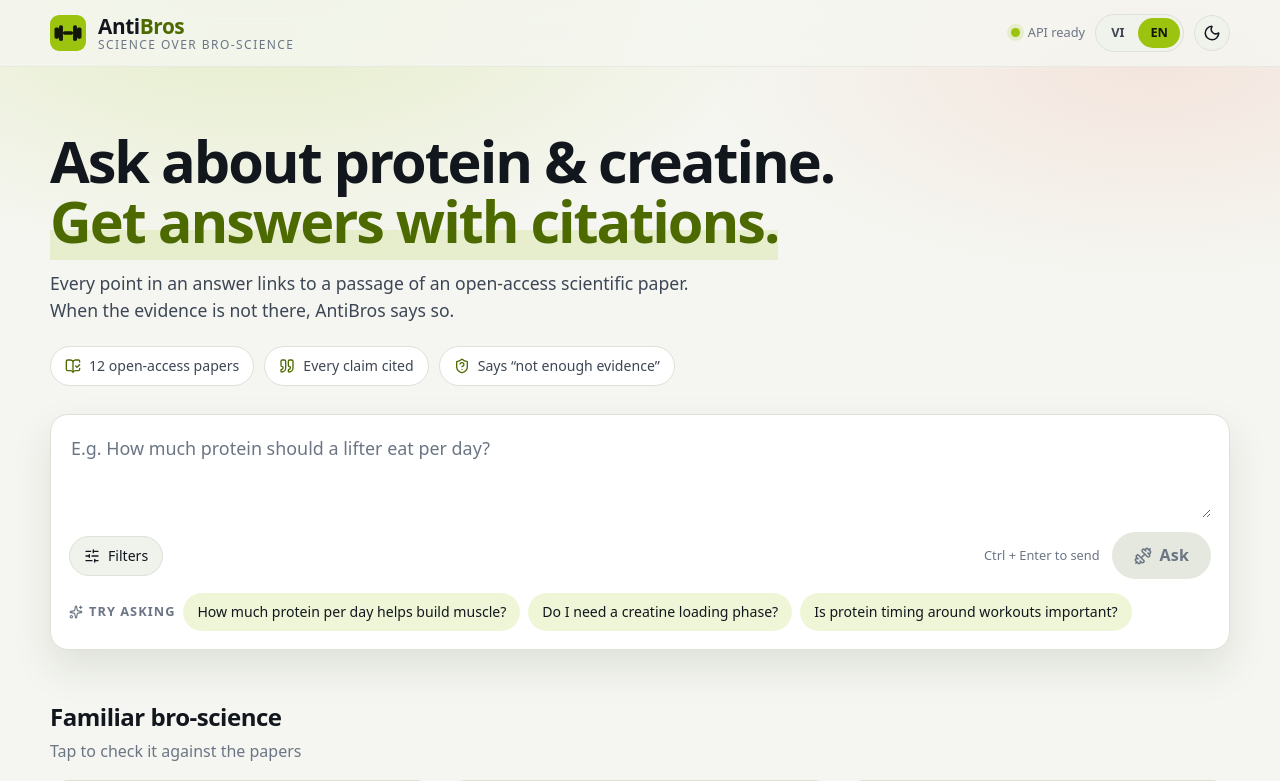
Test: App › surfaces API errors with their status
The width and height of the screenshot is (1280, 781).
Type "Is whey safe?" into the text box.
click(640, 475); type("Is whey safe?")  # box [69, 433, 1211, 518]
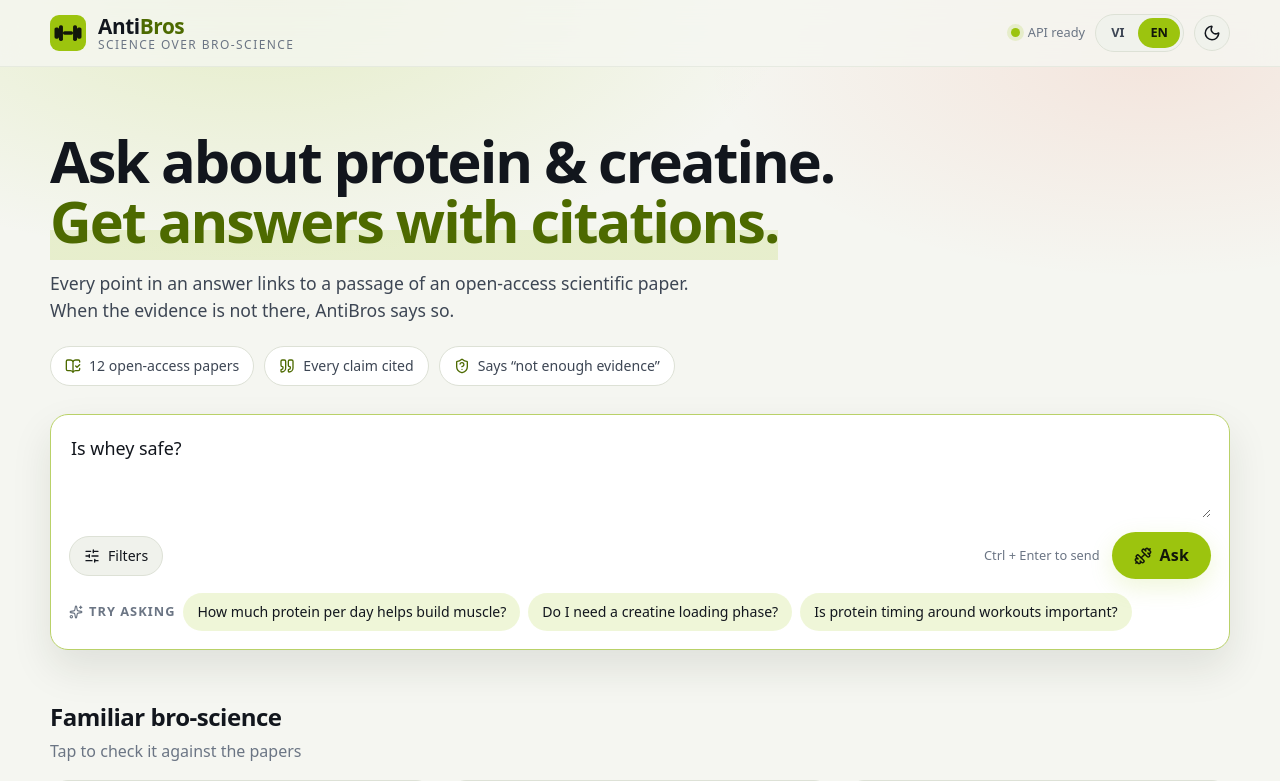
Type keys "{Control>}{Enter}{/Control}"
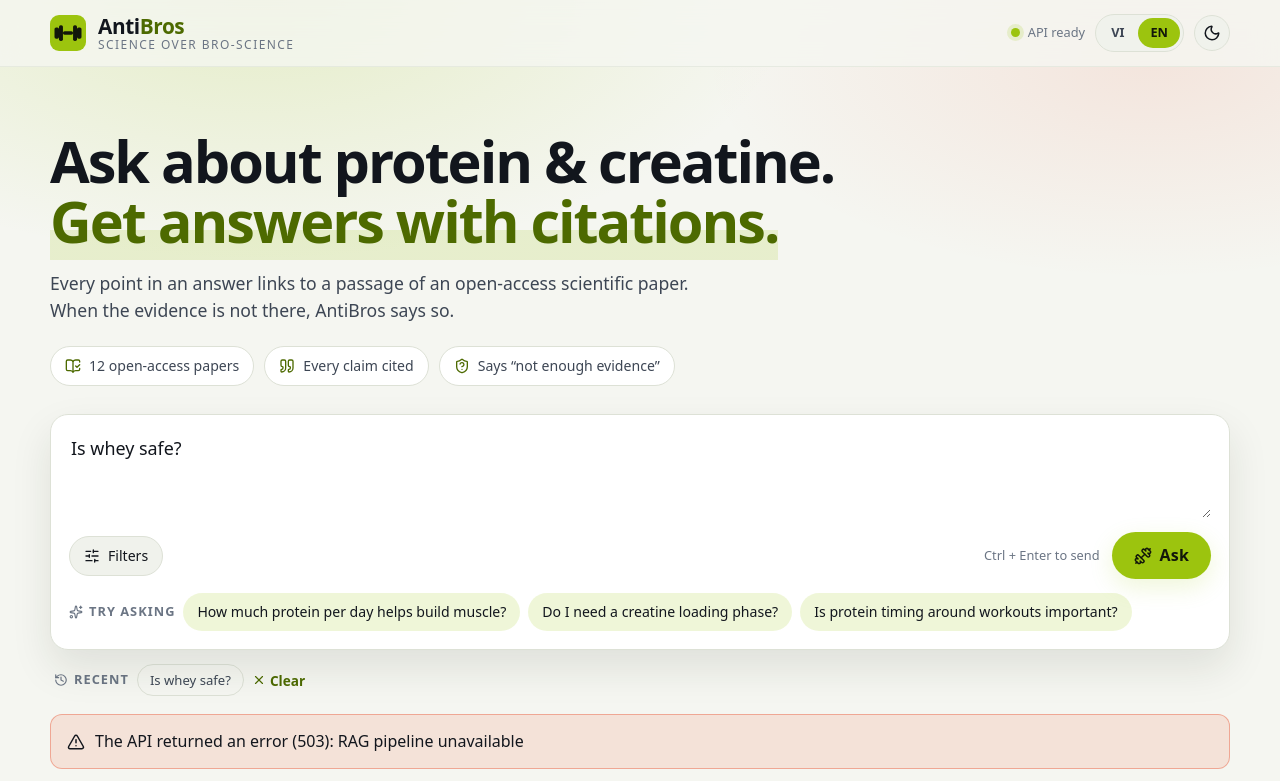
Result: the message "The API returned an error (503): RAG pipeline unavailable" is shown at [50, 714, 1230, 769]
